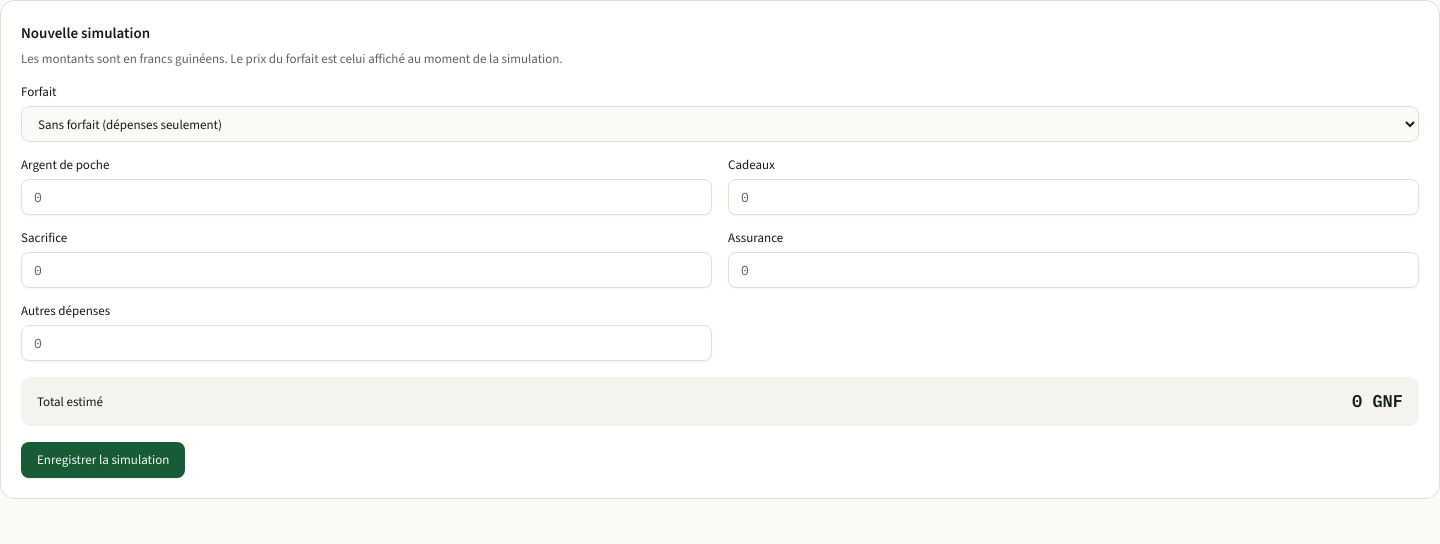
Test: BudgetSimulator › refuse un montant qui n'est pas en chiffres
In the field labelled "Cadeaux": (1074, 197) [728, 179, 1419, 215], type "12,5"
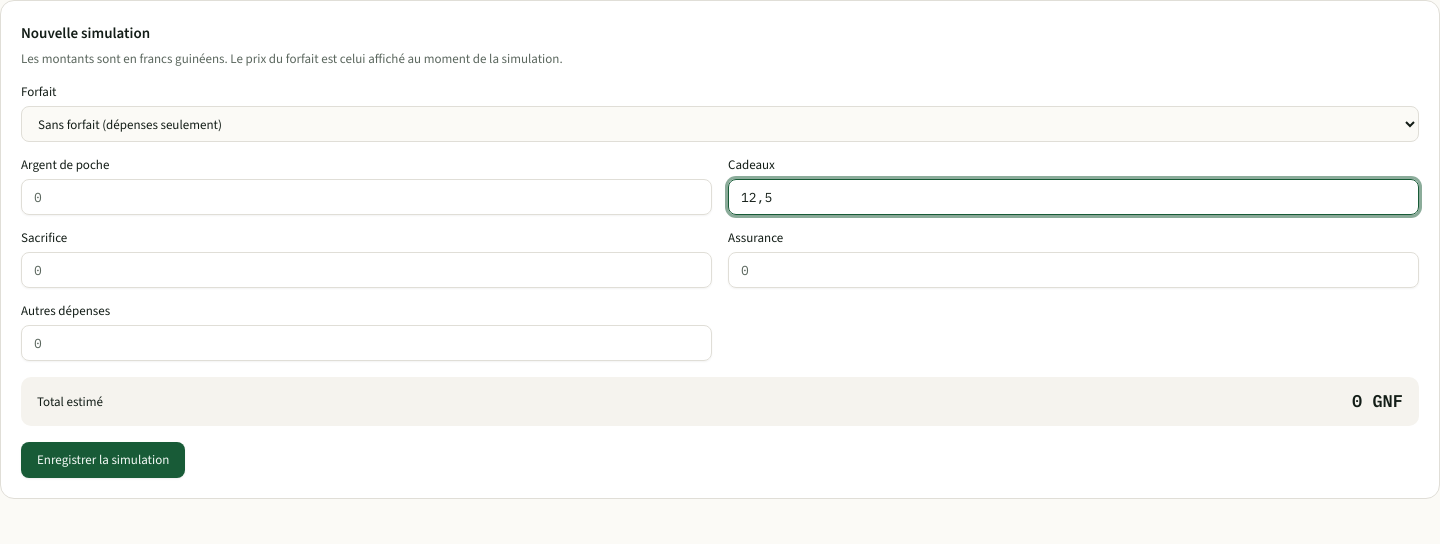
Click the button "Enregistrer la simulation": (103, 460) [21, 442, 185, 478]
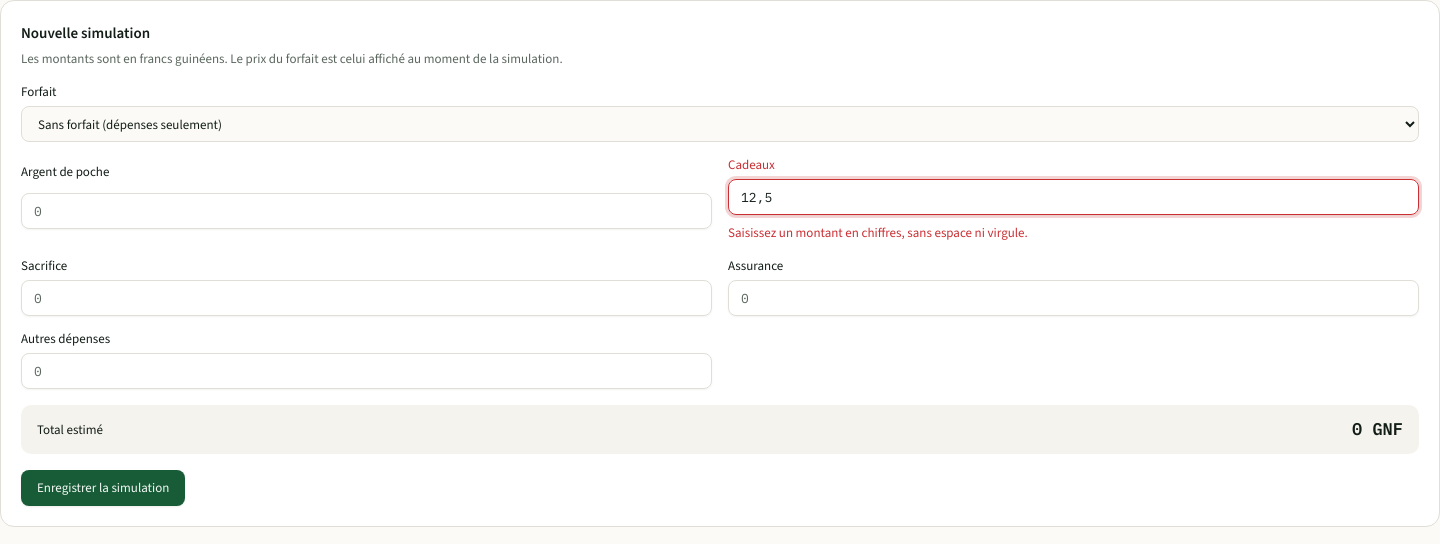
Expected: the text "Saisissez un montant en chiffres, sans espace ni virgule." is shown, [728, 224, 1028, 241]
